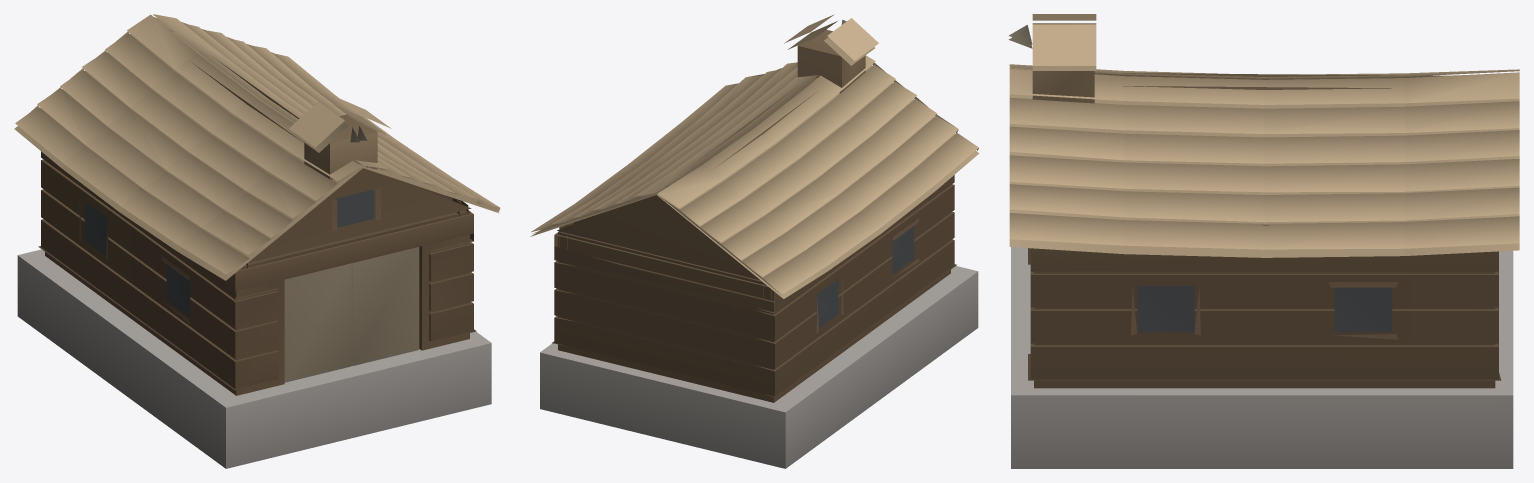
Rendered from warehouse.lod.glb.
3 views of the same model, side by side, from view 1: azimuth 30°, elevation 25°; view 2: azimuth 150°, elevation 25°; view 3: azimuth 270°, elevation 25° (orthographic). The views are drawn at different scales.
Visible parts, largest first — view 1: warehouse; view 2: warehouse; view 3: warehouse.
Boxes of the visible parts, x1,y1,x2,y2 form: warehouse: (14,14,500,468); warehouse: (530,14,979,468); warehouse: (1008,14,1519,468).
Size of the model in its own units: 7.2 by 7.77 by 9.63.
